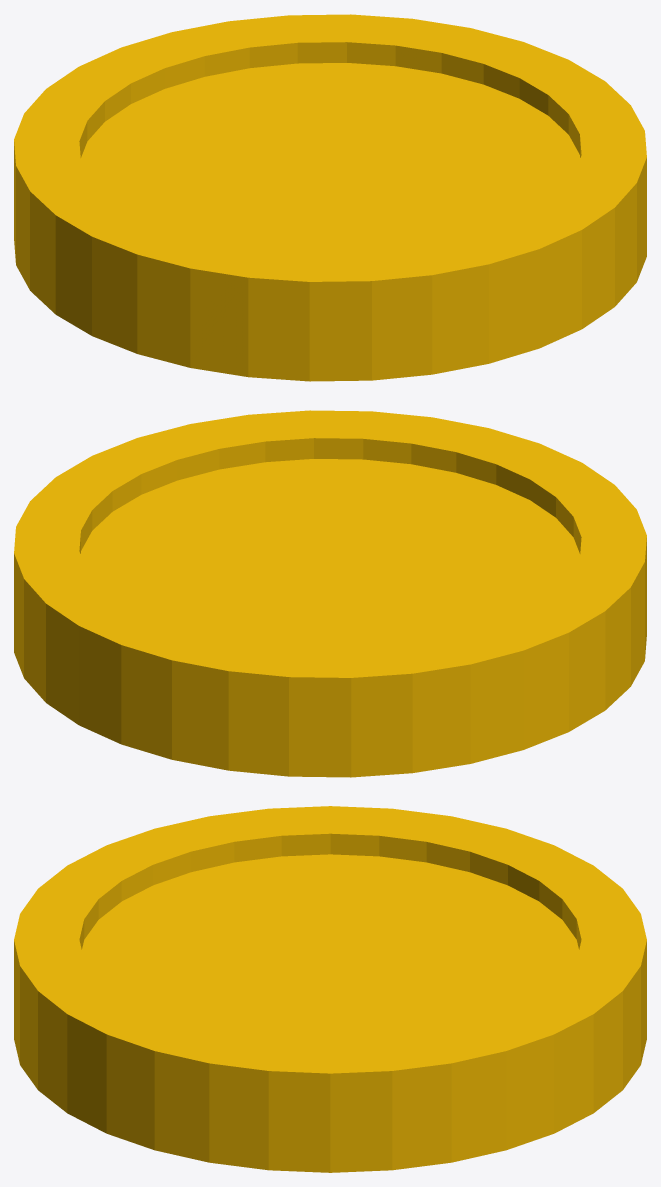
File: coin.fbx
The picture shows the model from 3 angles, top to bottom: view 1: azimuth 30°, elevation 25°; view 2: azimuth 150°, elevation 25°; view 3: azimuth 270°, elevation 25°; orthographic projection.
Visible parts, largest first — view 1: coin; view 2: coin; view 3: coin.
Part boxes in pixels (x1,y1,x2,y2): coin: [14, 14, 646, 381]; coin: [14, 410, 646, 777]; coin: [14, 806, 646, 1172].
Size of the model in its own units: 0.4042 by 0.07 by 0.4042.
